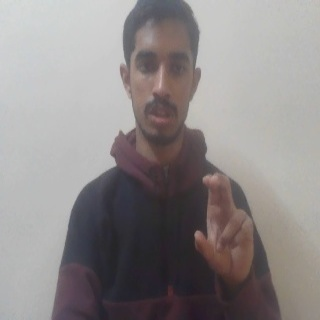No: (190, 171, 260, 284)
